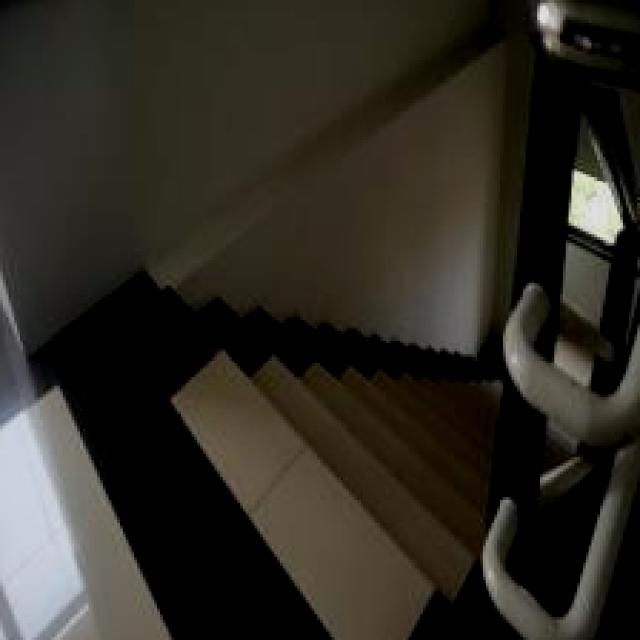downstair: (129, 229, 483, 640)
